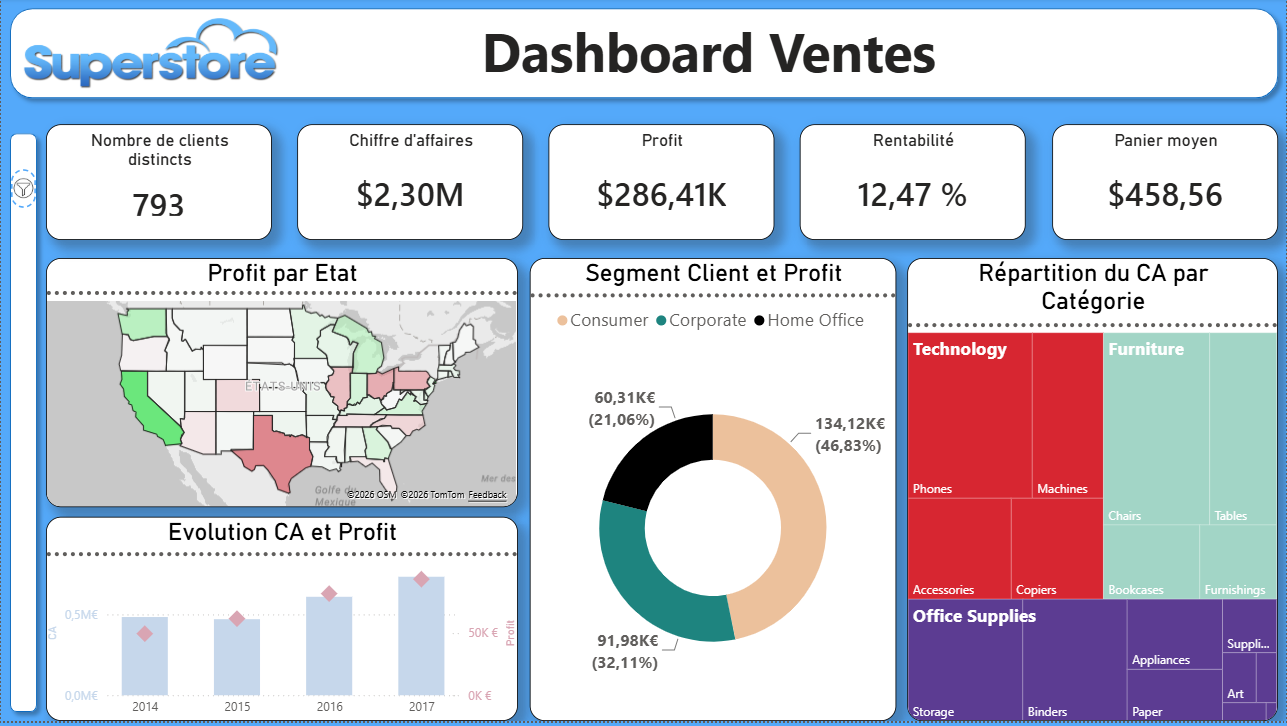

Layout of this report page (visuals, bound fields, positions):
{"tool":"powerbi","page":{"name":"Bilan globale des ventes","canvas":[1280,720],"ordinal":0},"visuals":[{"type":"shape","box":[0,1.4,1280,107.6],"z":0},{"type":"image","box":[20,11.4,258,85.5],"z":1000},{"type":"azureMap","title":"Profit par Etat","fields":{"Category":["df_dim_location.state"]},"box":[44.8,259,469.3,248.2],"z":2000},{"type":"cardVisual","title":"Nombre de clients distincts","fields":{"Data":["Count(df_dim_customer.customer_id)"]},"box":[44.8,126.1,225.1,115.3],"z":3000},{"type":"cardVisual","title":"Chiffre d''affaires","fields":{"Data":["Sum(df_facts.total_sales)"]},"box":[295.1,126.1,225,115.3],"z":4000},{"type":"cardVisual","title":"Profit","fields":{"Data":["Sum(df_facts.profit)"]},"box":[545.3,126.1,225,115.3],"z":5000},{"type":"lineClusteredColumnComboChart","title":"Evolution CA et Profit","fields":{"Category":["Calendrier.Date.Variation.Hiérarchie de dates.Année"],"Y":["Sum(df_facts.total_sales)"],"Y2":["Sum(df_facts.profit)"]},"box":[44.8,516.6,469.3,203.4],"z":6000},{"type":"cardVisual","title":"Rentabilité","fields":{"Data":["Mesure.Taux de rentabilité"]},"box":[795.5,126.1,225,115.3],"z":7000},{"type":"donutChart","title":"Segment Client et Profit","fields":{"Category":["df_dim_customer.segment"],"Y":["Sum(df_facts.profit)"]},"box":[526.2,259,364.8,461.1],"z":8000},{"type":"cardVisual","title":"Panier moyen ","fields":{"Data":["Mesure.Panier moyen"]},"box":[1045.6,126.1,225,115.3],"z":9000},{"type":"treemap","title":"Répartition du CA par Catégorie","fields":{"Details":["df_dim_product.sub_category"],"Group":["df_dim_product.category"],"Values":["Sum(df_facts.total_sales)"]},"box":[901.9,259,368.9,461.1],"z":10000},{"type":"textbox","box":[329.6,10.8,759.5,97.6],"z":11000},{"type":"shape","box":[0,126.1,44.8,594],"z":12000},{"type":"image","box":[10,170,25,38],"z":13000}]}

Visuals, with their boxes in screenshot pixels (x1, y1, x2, y2), scaled from the page's 1280x720 canvas onto the 1287x726 screenshot:
shape: {"x1": 0, "y1": 1, "x2": 1286, "y2": 110}
image: {"x1": 20, "y1": 11, "x2": 280, "y2": 98}
"Profit par Etat" azureMap: {"x1": 45, "y1": 261, "x2": 517, "y2": 511}
"Nombre de clients distincts" cardVisual: {"x1": 45, "y1": 127, "x2": 271, "y2": 243}
"Chiffre d''affaires" cardVisual: {"x1": 297, "y1": 127, "x2": 523, "y2": 243}
"Profit" cardVisual: {"x1": 548, "y1": 127, "x2": 775, "y2": 243}
"Evolution CA et Profit" lineClusteredColumnComboChart: {"x1": 45, "y1": 521, "x2": 517, "y2": 725}
"Rentabilité" cardVisual: {"x1": 800, "y1": 127, "x2": 1026, "y2": 243}
"Segment Client et Profit" donutChart: {"x1": 529, "y1": 261, "x2": 896, "y2": 725}
"Panier moyen " cardVisual: {"x1": 1051, "y1": 127, "x2": 1278, "y2": 243}
"Répartition du CA par Catégorie" treemap: {"x1": 907, "y1": 261, "x2": 1278, "y2": 725}
textbox: {"x1": 331, "y1": 11, "x2": 1095, "y2": 109}
shape: {"x1": 0, "y1": 127, "x2": 45, "y2": 725}
image: {"x1": 10, "y1": 171, "x2": 35, "y2": 210}
